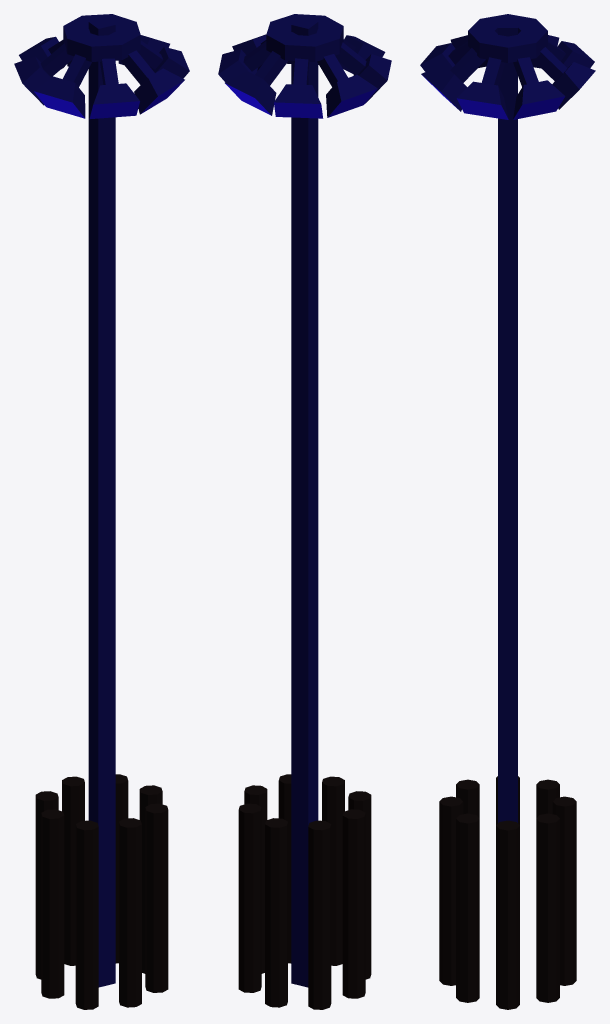
File: SM_lampoutside.FBX
The picture shows the model from 3 angles, left to right: view 1: azimuth 30°, elevation 25°; view 2: azimuth 150°, elevation 25°; view 3: azimuth 270°, elevation 25°; orthographic projection.
Parts seen in each view (by area): view 1: lampoutside; view 2: lampoutside; view 3: lampoutside.
Boxes of the visible parts, x1,y1,x2,y2 form: lampoutside: [14, 14, 189, 1009]; lampoutside: [218, 14, 391, 1009]; lampoutside: [420, 14, 595, 1009].
Size of the model in its own units: 133 by 800 by 133.
